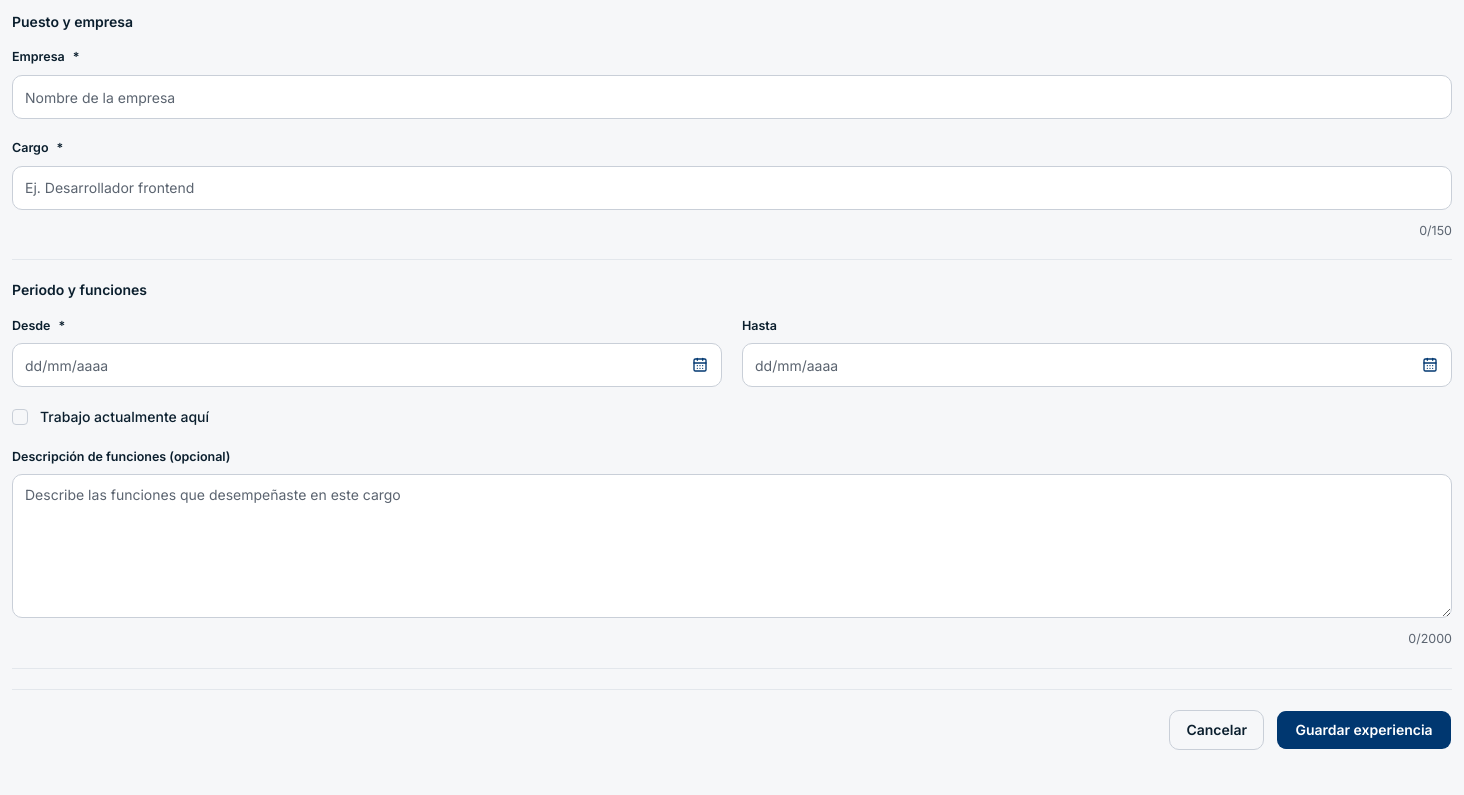
it: WorkExperienceForm › shows an error next to each empty required field and does not submit
What coordinates should you click on to do the following:
click the button "Guardar experiencia"
I would click on:
 (1364, 730)
Its box is [1276,710,1452,750].
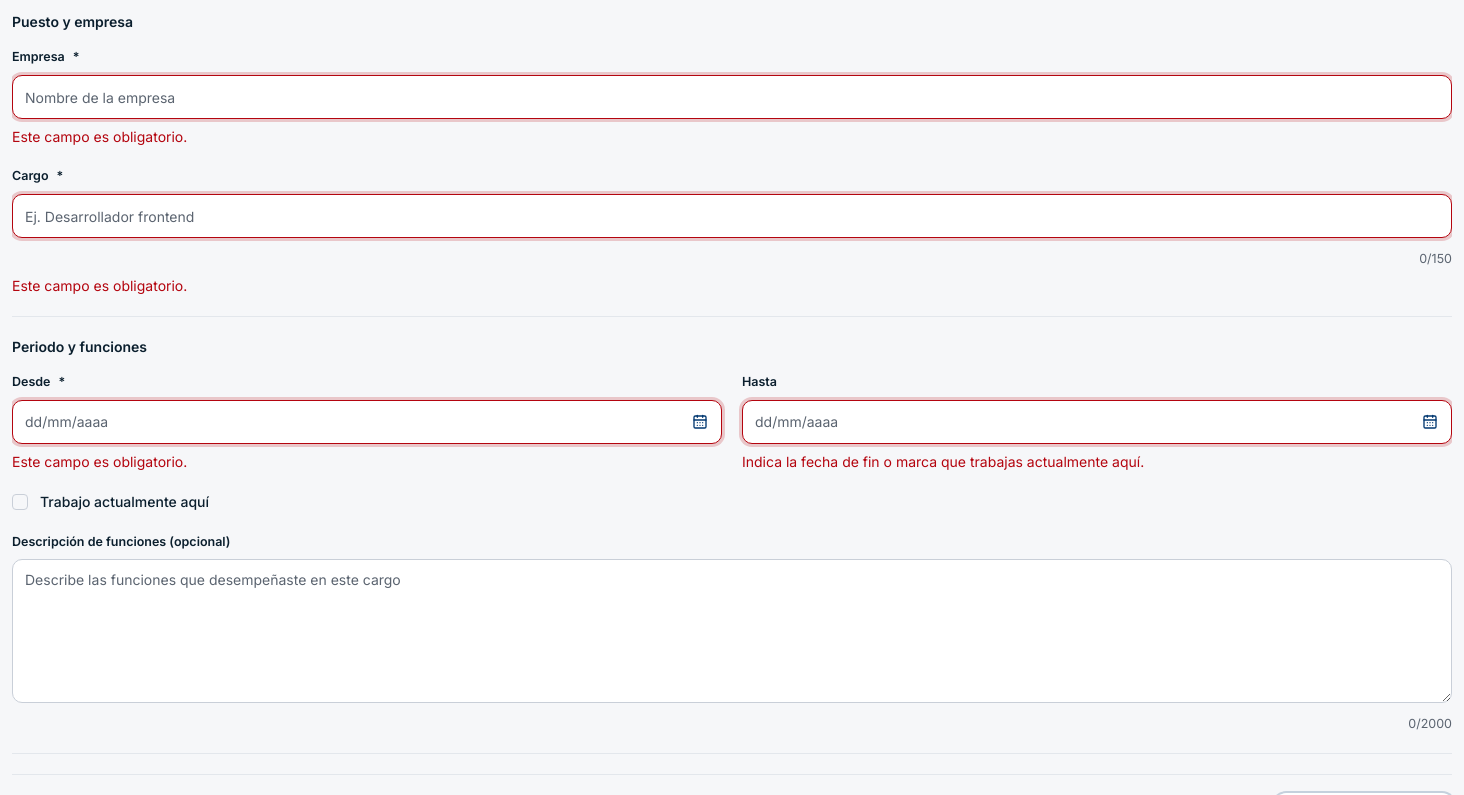
expect the text "Este campo es obligatorio." is shown 3 times: met, box [12,128,187,145]; [12,277,187,294]; [12,453,187,470]
expect the text "Indica la fecha de fin o marca que trabajas actualmente aquí." is shown: met, box [742,453,1144,470]
